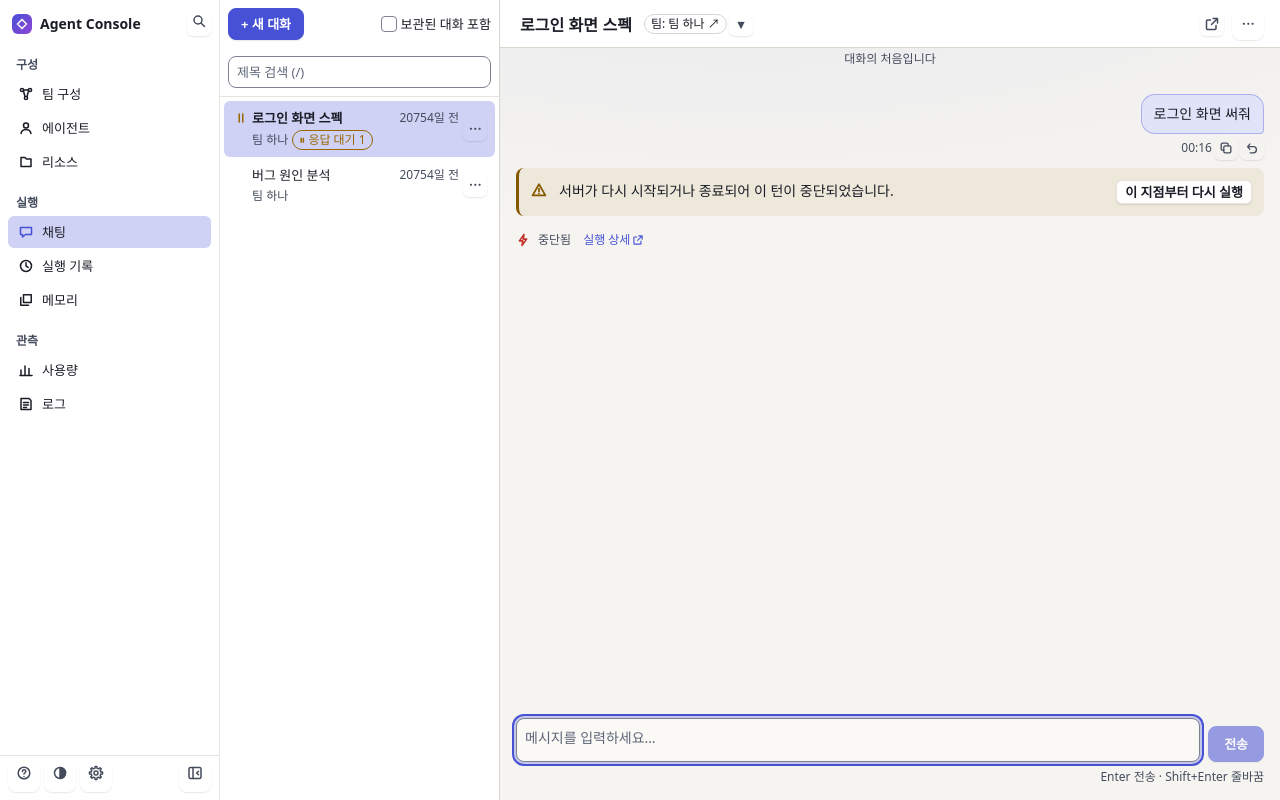
Test: 끊긴 턴 이어 가기 › 409/404는 서버 메시지를 토스트로 알리고 옵션을 다시 읽는다(행 오류 아님)
Click the button "이 지점부터 다시 실행".
click(1184, 192)  # box [1116, 180, 1252, 204]
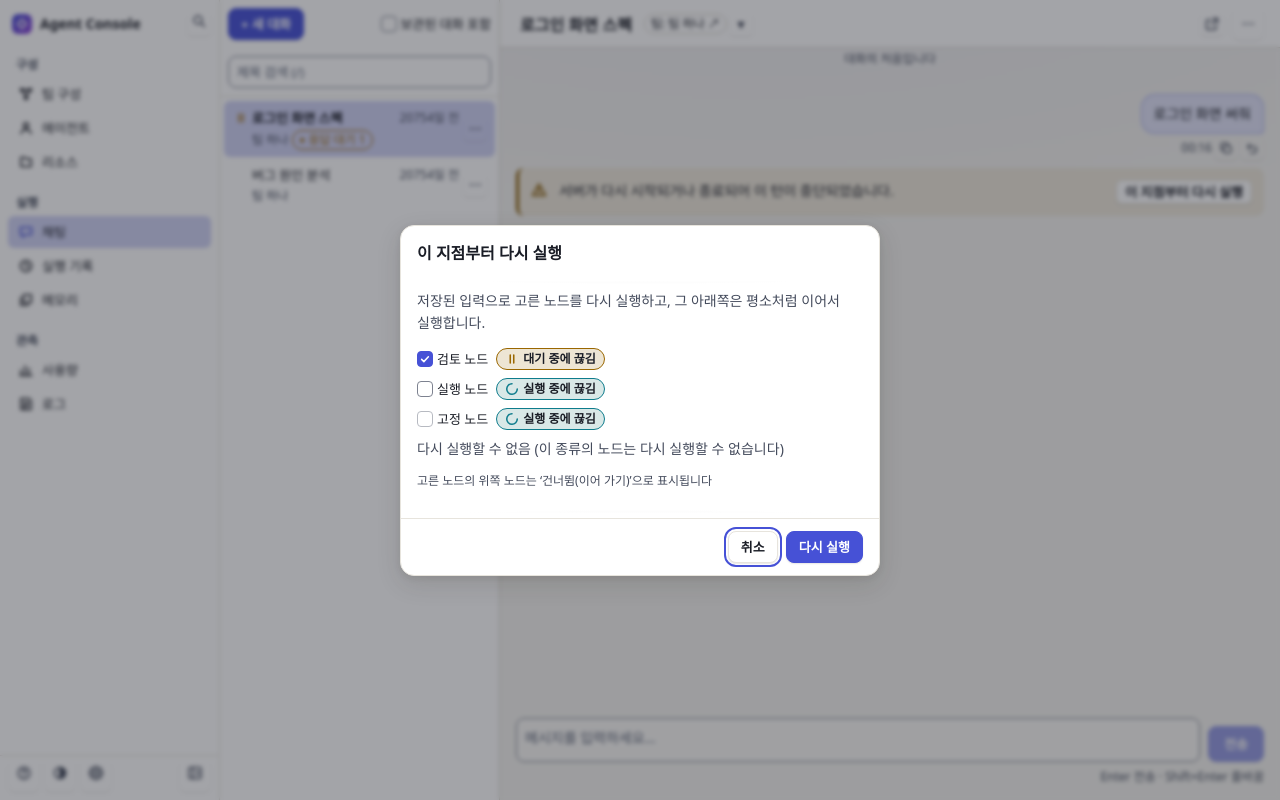
expect the checkbox labelled "검토 노드" is shown: met, box [417, 350, 433, 366]
Click the button "다시 실행".
click(824, 546)  # box [786, 530, 863, 562]
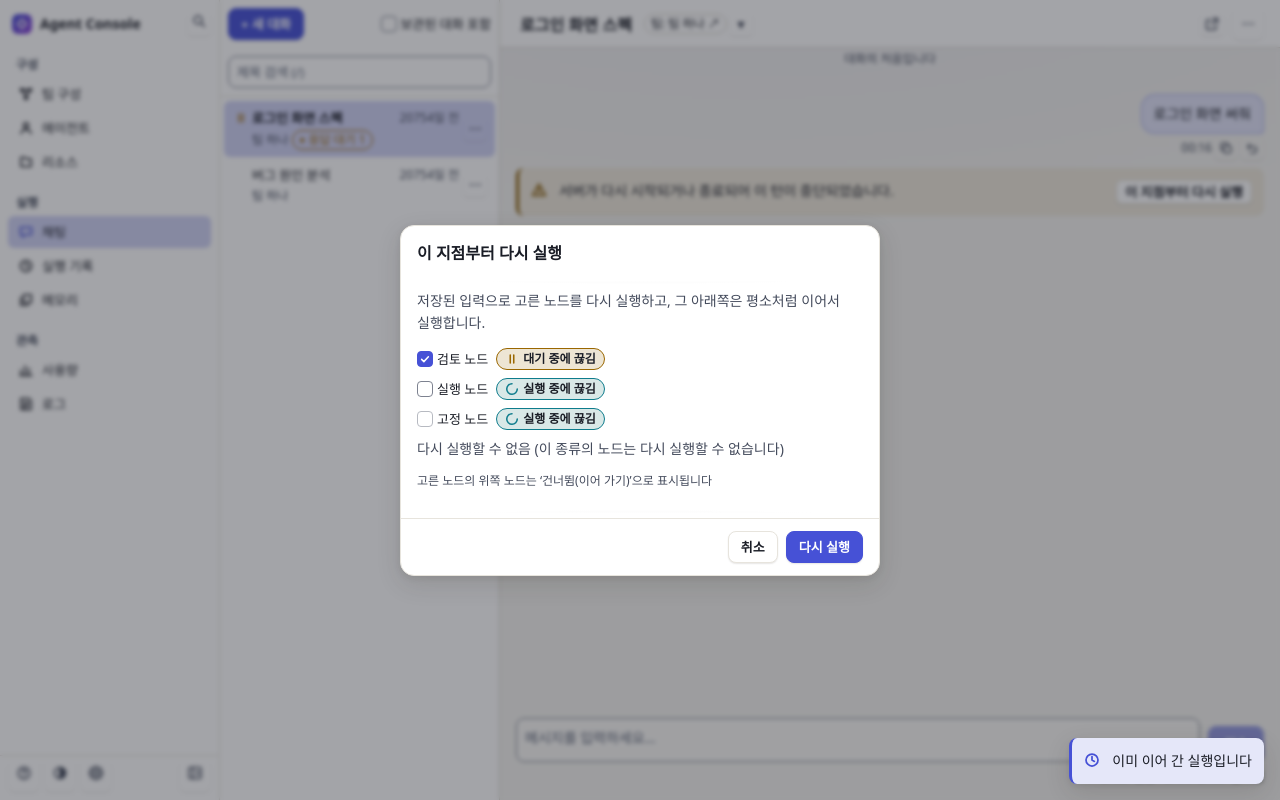
expect the text "이미 이어 간 실행입니다" is shown: met, box [1112, 750, 1252, 772]
